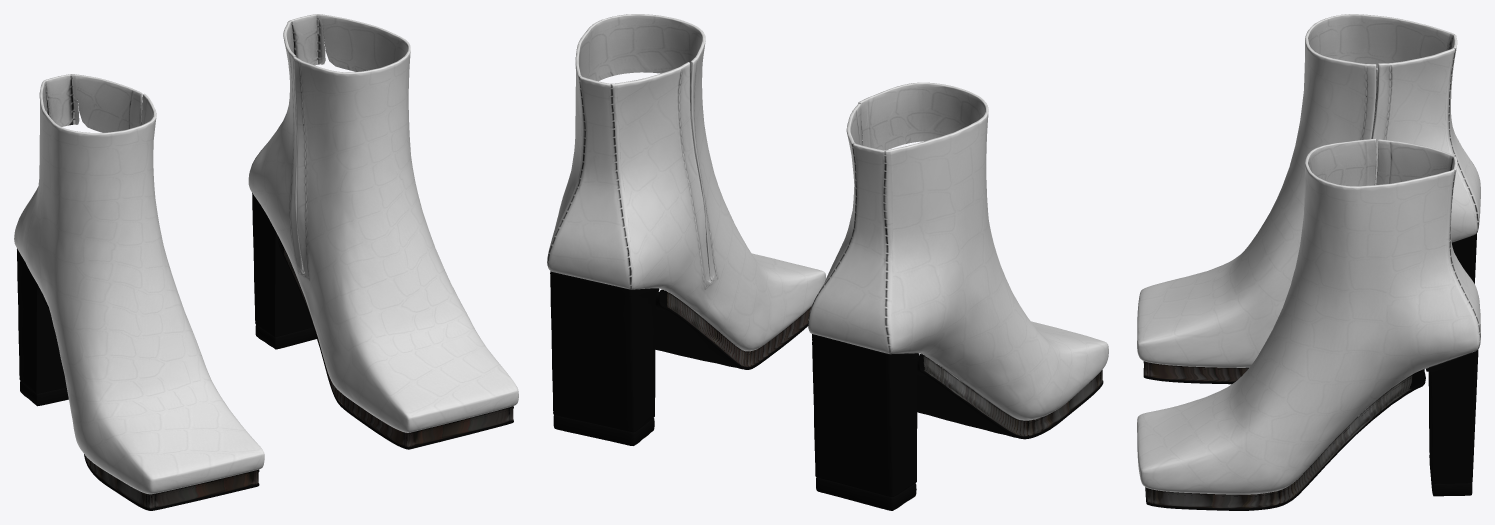
Rendered from Moidien-shoes.glb.
The picture shows the model from 3 angles, left to right: view 1: azimuth 30°, elevation 25°; view 2: azimuth 150°, elevation 25°; view 3: azimuth 270°, elevation 25°; orthographic projection. The views are drawn at different scales.
Parts seen in each view (by area): view 1: shoes_l_Shape; view 2: shoes_l_Shape; view 3: shoes_l_Shape.
Part boxes in pixels (x1,y1,x2,y2): shoes_l_Shape: (14, 14, 518, 510); shoes_l_Shape: (547, 14, 1108, 510); shoes_l_Shape: (1137, 14, 1480, 510).
Bounding box in the file's own units: 0.2966 × 0.2297 × 0.2235.
3 materials, 3 textured.
